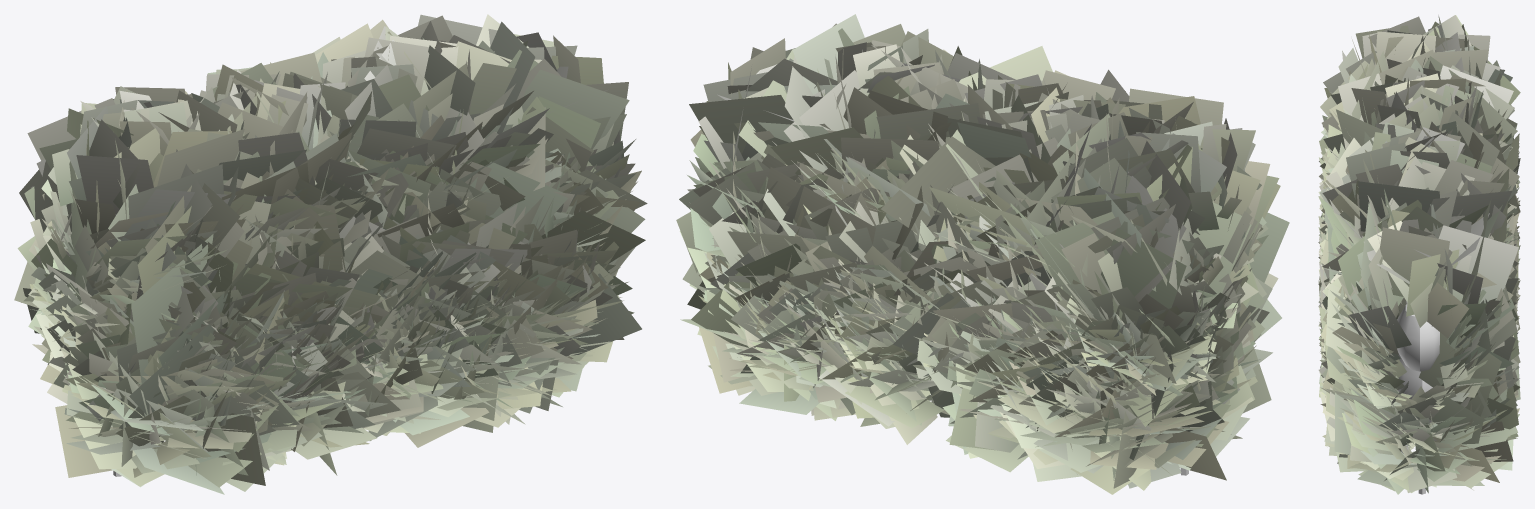
The model's file is hedge_wide.glb.
The picture shows the model from 3 angles, left to right: view 1: azimuth 30°, elevation 25°; view 2: azimuth 150°, elevation 25°; view 3: azimuth 270°, elevation 25°; orthographic projection. The views are drawn at different scales.
Visible parts, largest first — view 1: hedge_wide; view 2: hedge_wide; view 3: hedge_wide.
Boxes of the visible parts, x1,y1,x2,y2 form: hedge_wide: [14, 14, 647, 494]; hedge_wide: [676, 14, 1289, 494]; hedge_wide: [1318, 15, 1520, 494].
Size of the model in its own units: 4.52 by 2.96 by 1.82.
